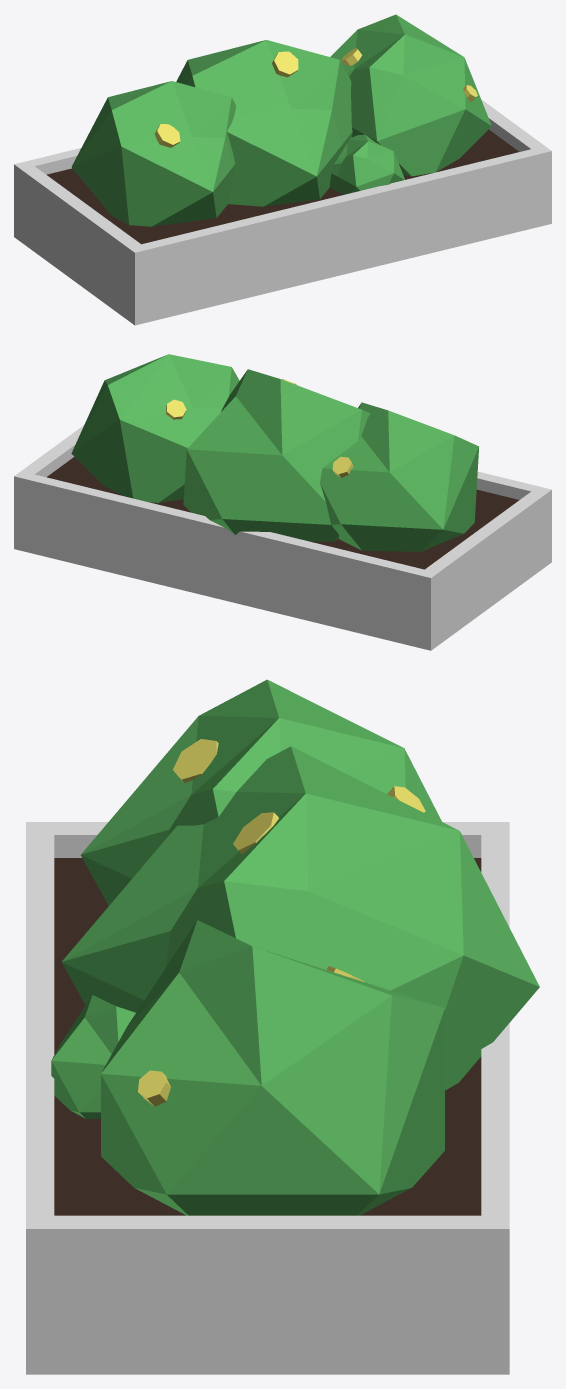
File: plant_large.fbx
The picture shows the model from 3 angles, top to bottom: view 1: azimuth 30°, elevation 25°; view 2: azimuth 150°, elevation 25°; view 3: azimuth 270°, elevation 25°; orthographic projection. The views are drawn at different scales.
Parts seen in each view (by area): view 1: Plant; view 2: Plant; view 3: Plant.
Part boxes in pixels (x1,y1,x2,y2): Plant: (14,14,551,325); Plant: (14,354,551,650); Plant: (26,679,539,1374).
Bounding box in the file's own units: 3 × 1.3 × 1.6.
